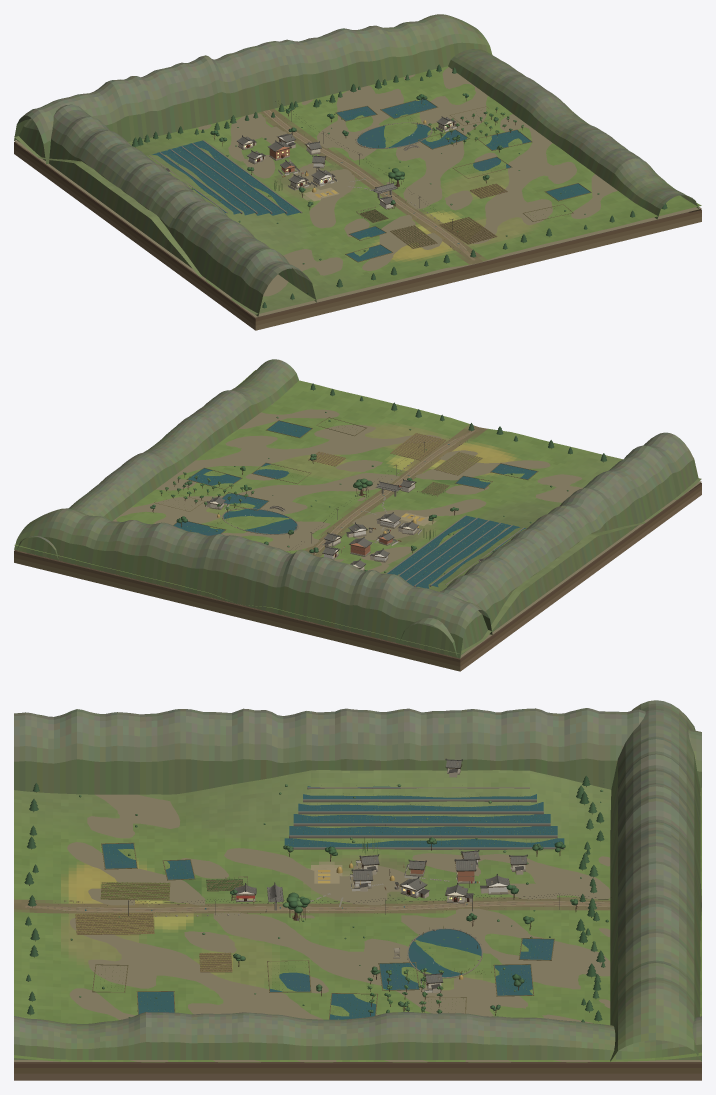
Rendered from rural.glb.
3 renders of one model, top to bottom at view 1: azimuth 30°, elevation 25°; view 2: azimuth 150°, elevation 25°; view 3: azimuth 270°, elevation 25°, orthographic. The views are drawn at different scales.
Parts seen in each view (by area): view 1: Rural_Mountain, Rural_Matte, Rural_Matte.001, Rural_Rough, Rural_Stone, Water_Terrace.001, Water_Terrace.002, Water_Terrace, Water_Pond, Water_Terrace.003, Water_Paddy.008; view 2: Rural_Mountain, Rural_Matte, Rural_Matte.001, Rural_Rough, Rural_Stone, Water_Terrace.002, Water_Pond, Water_Terrace.001, Water_Terrace.003, Water_Terrace; view 3: Rural_Mountain, Rural_Matte, Rural_Matte.001, Rural_Rough, Rural_Stone, Water_Terrace.001, Water_Terrace.002, Water_Terrace, Water_Pond, Water_Terrace.003, Water_Paddy.008, Water_Terrace.004 (+5 smaller).
Boxes of the visible parts, x1=… form: Rural_Mountain: x1=14, y1=14, x2=698, y2=316; Rural_Matte: x1=14, y1=64, x2=701, y2=314; Rural_Matte.001: x1=14, y1=67, x2=701, y2=330; Rural_Rough: x1=263, y1=99, x2=591, y2=262; Rural_Stone: x1=149, y1=122, x2=453, y2=222; Water_Terrace.001: x1=178, y1=143, x2=285, y2=215; Water_Terrace.002: x1=168, y1=146, x2=270, y2=215; Water_Terrace: x1=189, y1=140, x2=300, y2=215; Water_Pond: x1=357, y1=124, x2=430, y2=148; Water_Terrace.003: x1=157, y1=149, x2=255, y2=215; Water_Paddy.008: x1=381, y1=99, x2=436, y2=118; Rural_Mountain: x1=14, y1=359, x2=698, y2=658; Rural_Matte: x1=14, y1=370, x2=701, y2=654; Rural_Matte.001: x1=14, y1=403, x2=701, y2=671; Rural_Rough: x1=154, y1=417, x2=538, y2=554; Rural_Stone: x1=209, y1=459, x2=524, y2=586; Water_Terrace.002: x1=406, y1=520, x2=499, y2=586; Water_Pond: x1=223, y1=509, x2=297, y2=533; Water_Terrace.001: x1=399, y1=518, x2=487, y2=580; Water_Terrace.003: x1=415, y1=523, x2=510, y2=588; Water_Terrace: x1=387, y1=515, x2=475, y2=574; Rural_Mountain: x1=14, y1=700, x2=701, y2=1061; Rural_Matte: x1=14, y1=758, x2=701, y2=1062; Rural_Matte.001: x1=14, y1=794, x2=701, y2=1080; Rural_Rough: x1=25, y1=842, x2=610, y2=1019; Rural_Stone: x1=87, y1=770, x2=564, y2=989; Water_Terrace.001: x1=289, y1=826, x2=557, y2=835; Water_Terrace.002: x1=293, y1=814, x2=550, y2=823; Water_Terrace: x1=284, y1=838, x2=564, y2=847; Water_Pond: x1=408, y1=929, x2=481, y2=977; Water_Terrace.003: x1=298, y1=802, x2=543, y2=811; Water_Paddy.008: x1=494, y1=964, x2=532, y2=995; Water_Terrace.004: x1=303, y1=794, x2=536, y2=799.
Bounding box in the file's own units: 320 × 45.06 × 300.
11 materials, 1 textured.
